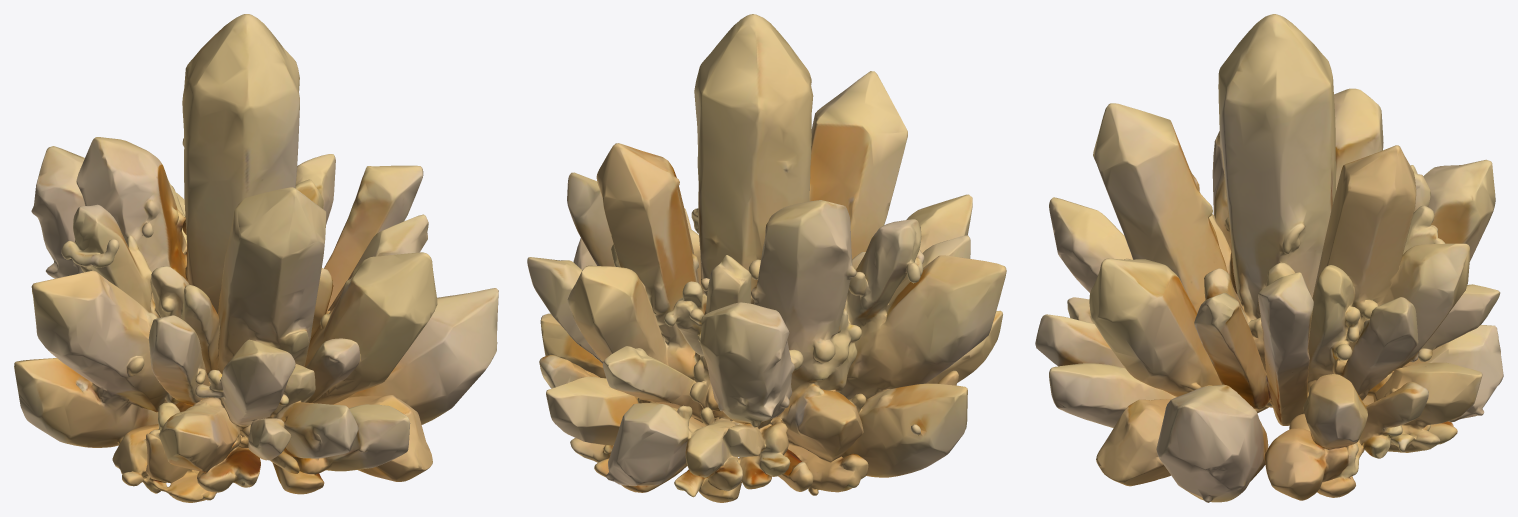
File: prop-crystal-gold.glb
The picture shows the model from 3 angles, left to right: view 1: azimuth 30°, elevation 25°; view 2: azimuth 150°, elevation 25°; view 3: azimuth 270°, elevation 25°; orthographic projection. The views are drawn at different scales.
Parts seen in each view (by area): view 1: tripo_node_809d1873-c4a9-4d59-b076-858a182fe0c3; view 2: tripo_node_809d1873-c4a9-4d59-b076-858a182fe0c3; view 3: tripo_node_809d1873-c4a9-4d59-b076-858a182fe0c3.
Part boxes in pixels (<box>): tripo_node_809d1873-c4a9-4d59-b076-858a182fe0c3: <box>14,14,498,502</box>; tripo_node_809d1873-c4a9-4d59-b076-858a182fe0c3: <box>527,14,1006,502</box>; tripo_node_809d1873-c4a9-4d59-b076-858a182fe0c3: <box>1035,14,1503,502</box>.
Size of the model in its own units: 2.13 by 2 by 1.99.
Materials: 1 (1 with a texture image).
